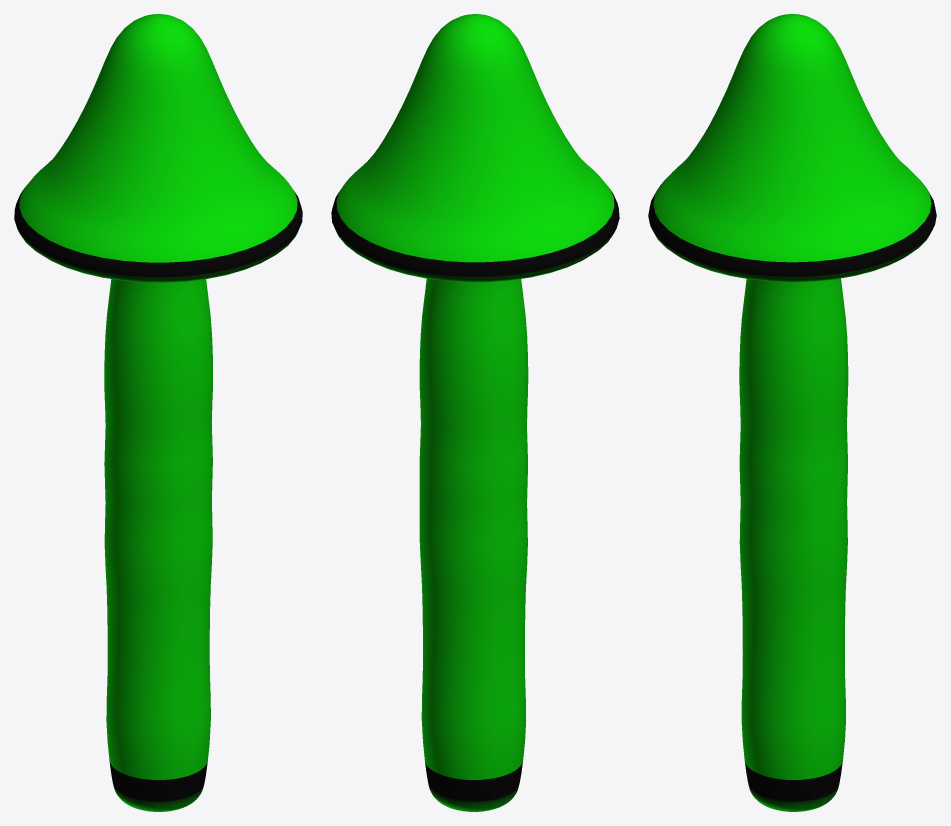
File: Gnoomeshead_shroom_3.fbx
The picture shows the model from 3 angles, left to right: view 1: azimuth 30°, elevation 25°; view 2: azimuth 150°, elevation 25°; view 3: azimuth 270°, elevation 25°; orthographic projection.
Parts seen in each view (by area): view 1: polySurface26; view 2: polySurface26; view 3: polySurface26.
Boxes of the visible parts, left/top/right/bottom form: polySurface26: left=14, top=14, right=302, bottom=811; polySurface26: left=331, top=14, right=619, bottom=811; polySurface26: left=648, top=14, right=936, bottom=811.
Size of the model in its own units: 0.6371 by 1.91 by 0.6371.
